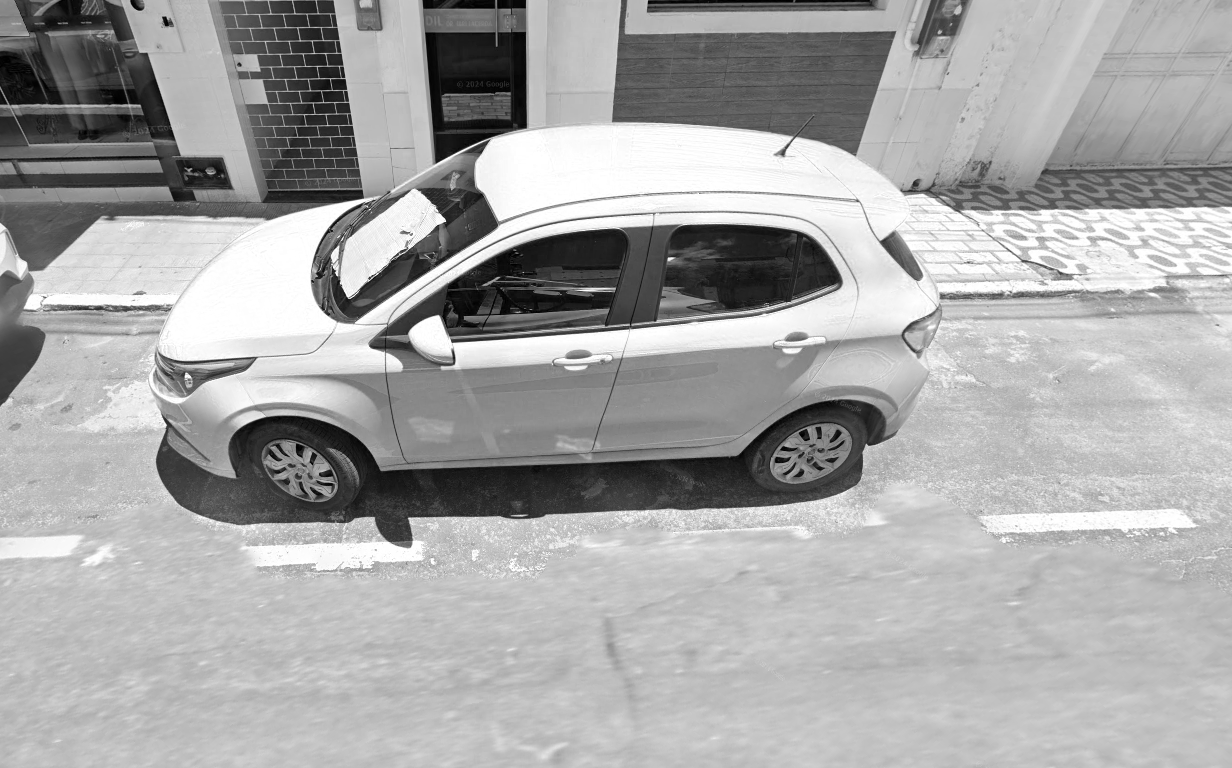car: (140, 106, 938, 521)
